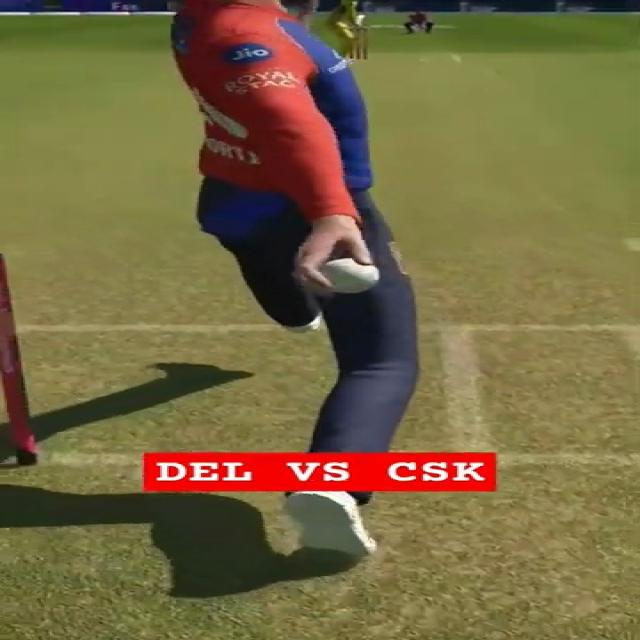ball: (318, 256, 380, 292)
